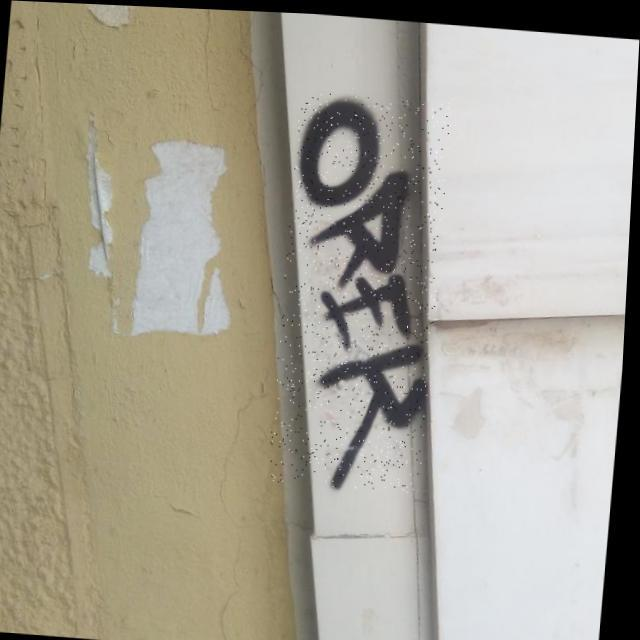-: (272, 88, 454, 490)
